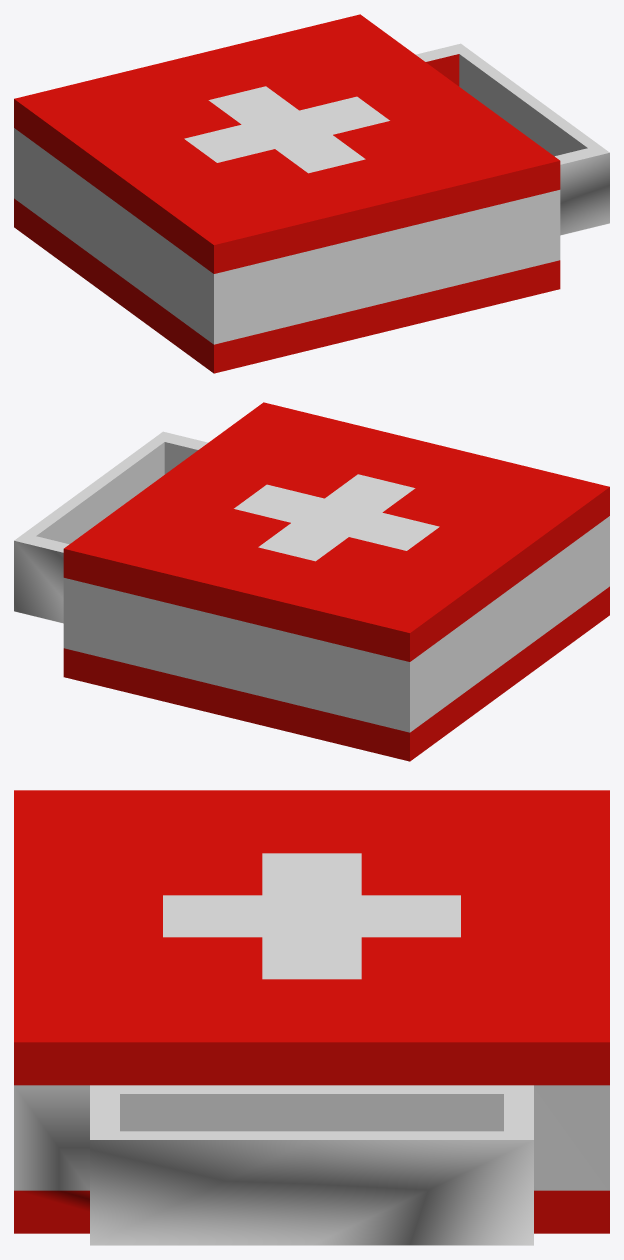
Rendered from health_kit.glb.
The picture shows the model from 3 angles, top to bottom: view 1: azimuth 30°, elevation 25°; view 2: azimuth 150°, elevation 25°; view 3: azimuth 270°, elevation 25°; orthographic projection. The views are drawn at different scales.
Parts seen in each view (by area): view 1: Cube; view 2: Cube; view 3: Cube.
Part boxes in pixels (x1,y1,x2,y2): Cube: (14,14,609,373); Cube: (14,402,609,761); Cube: (14,790,609,1245).
Size of the model in its own units: 2.43 by 0.7086 by 2.
